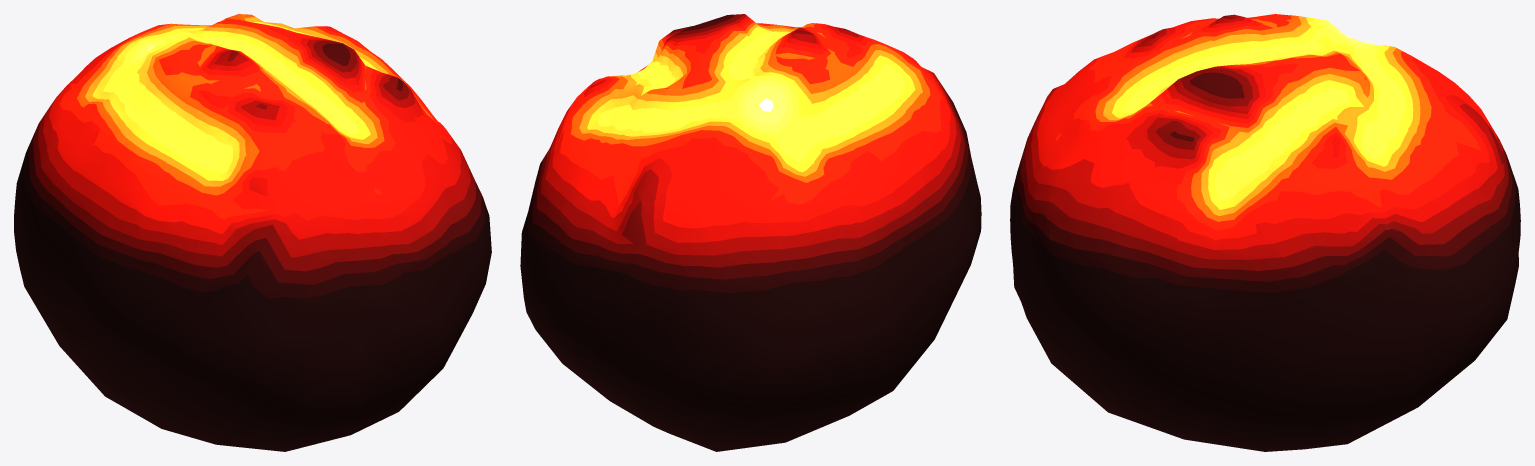
The model's file is molten_rock.glb.
The picture shows the model from 3 angles, left to right: view 1: azimuth 30°, elevation 25°; view 2: azimuth 150°, elevation 25°; view 3: azimuth 270°, elevation 25°; orthographic projection. The views are drawn at different scales.
Visible parts, largest first — view 1: molten_rock; view 2: molten_rock; view 3: molten_rock.
Boxes of the visible parts, x1,y1,x2,y2 form: molten_rock: [14, 14, 491, 451]; molten_rock: [520, 14, 981, 451]; molten_rock: [1010, 14, 1520, 451].
Bounding box in the file's own units: 10.65 × 10.72 × 12.42.
